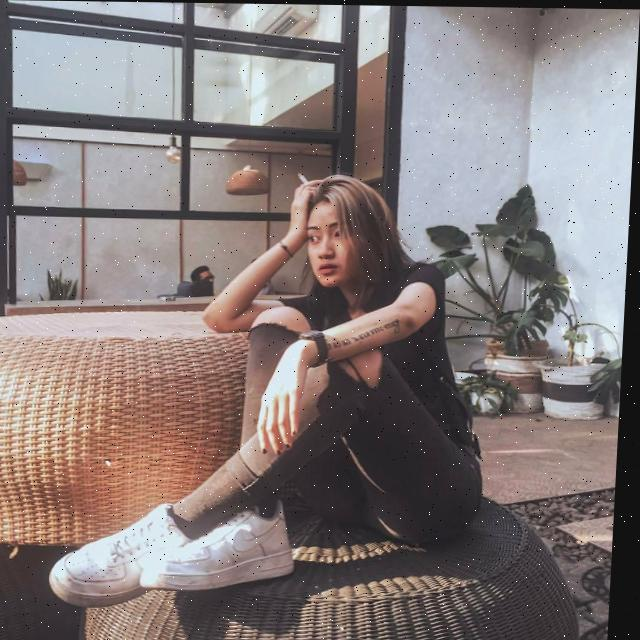cigarette: (299, 172, 311, 183)
